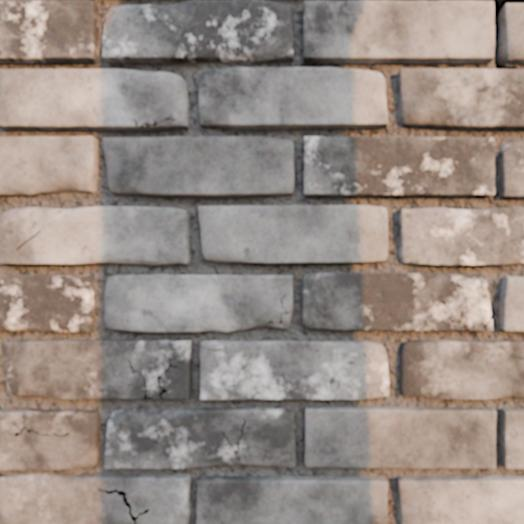brick: (304, 0, 509, 62), (103, 0, 293, 62), (305, 407, 495, 468), (105, 408, 295, 468), (0, 69, 188, 129), (199, 68, 387, 128), (103, 137, 294, 196), (304, 137, 494, 196), (2, 340, 191, 398), (200, 341, 388, 399), (0, 207, 189, 264), (302, 273, 490, 330), (199, 206, 387, 262), (105, 275, 292, 331), (0, 472, 190, 523), (197, 476, 386, 523), (398, 69, 523, 129), (400, 341, 523, 398), (400, 208, 523, 264), (0, 0, 98, 62), (0, 409, 99, 469), (398, 476, 523, 523), (0, 137, 97, 195), (0, 275, 93, 332), (501, 0, 523, 64), (499, 141, 523, 197), (501, 408, 523, 468), (500, 277, 523, 330), (487, 323, 491, 330)
crack: (493, 0, 521, 69), (438, 296, 468, 331), (127, 360, 153, 399), (156, 357, 178, 399), (267, 292, 292, 323), (483, 314, 492, 331), (200, 345, 221, 351), (303, 12, 311, 22)
